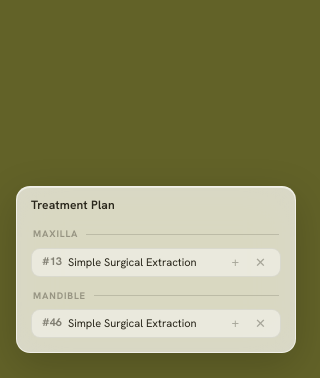
Test: TreatmentPanel — same-visit MediSave bundles › opening one card's menu does not open another card's
Click the button with class "trx-add" in the row of "#13" at (235, 262), box [228,254,243,271]
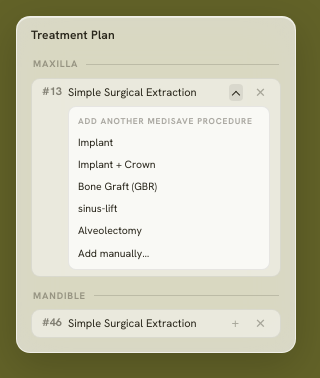
Expected: the number of elements with class "trx-menu" is 1, [68,106,270,270]
